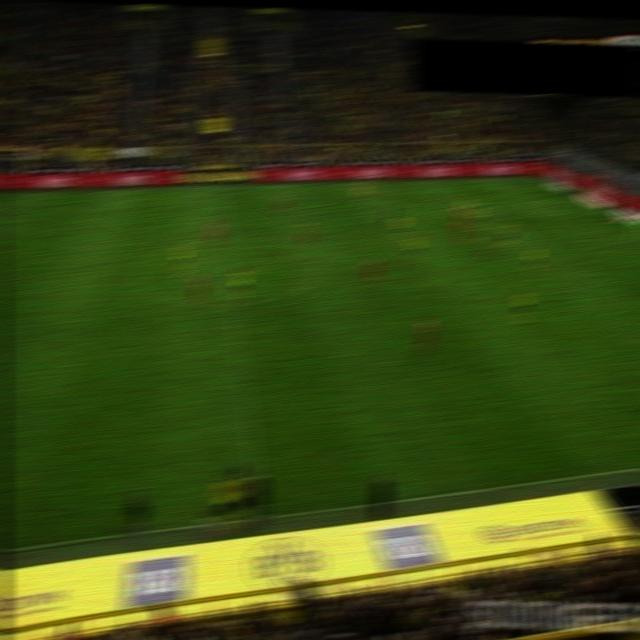bigarea_top_inner: (469, 198, 488, 209)
bigarea_top_outter: (572, 195, 590, 206)
bottom_arc_area_intersection: (577, 267, 595, 279)
corner: (525, 173, 544, 184)
halfcircle_bottom: (225, 298, 244, 309)
halfcircle_top: (216, 231, 234, 243)
midline_bottom_intersection: (248, 505, 273, 529)
midline_top_intersection: (210, 181, 228, 193)
smallarea_top_inner: (582, 217, 601, 229)
smallarea_top_outter: (618, 215, 636, 228)
top_arc_area_intersection: (511, 222, 529, 235)
